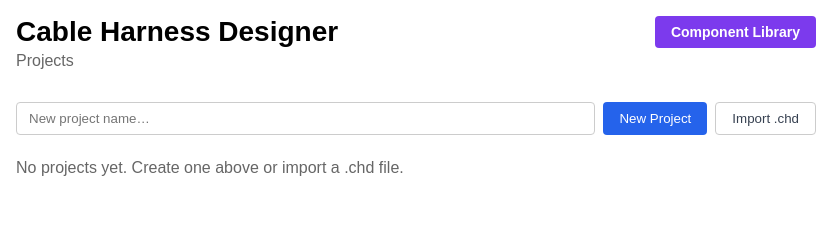
ProjectListScreen › rename flow updates the project name
expect the text "No projects yet. Create one above or import a .chd file." is shown: met, box top-left (16, 159), bottom-right (404, 176)
Type "Old Name" into the field with placeholder "New project name…" at (306,118), box top-left (16, 102), bottom-right (596, 135)
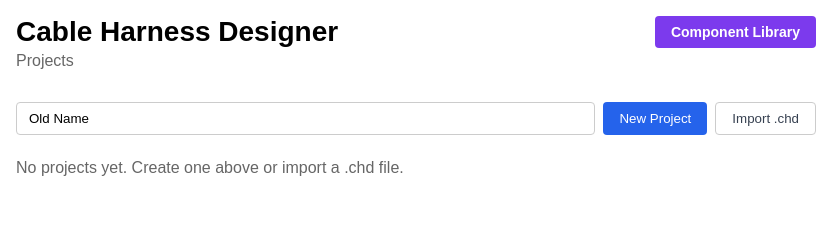
Click the button "New Project" at (655,118), box top-left (604, 102), bottom-right (707, 135)
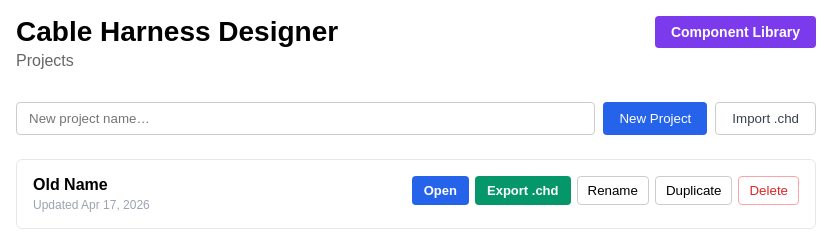
expect the text "Old Name" is shown: met, box top-left (33, 176), bottom-right (108, 193)
Click the button "Rename" at (613,190), box top-left (576, 176), bottom-right (649, 205)
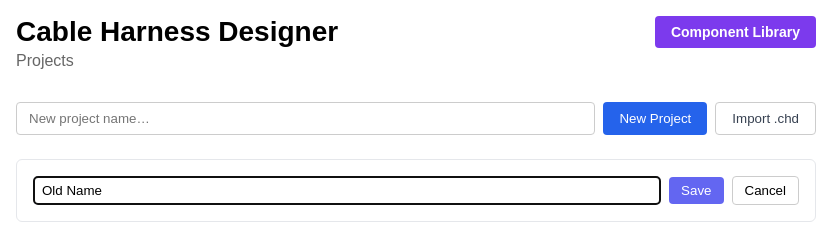
Replace the text in the field showing "Old Name" with "New Name" at (347,190), box top-left (33, 176), bottom-right (661, 205)
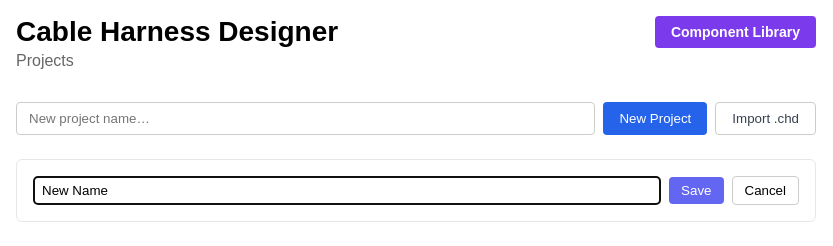
Click the button "Save" at (696,190), box top-left (669, 177), bottom-right (724, 204)
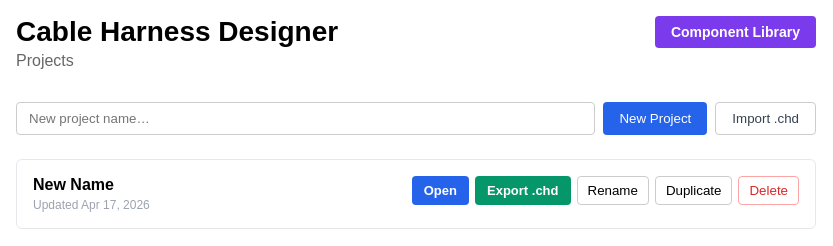
expect the text "Old Name" is not shown: met
expect the text "New Name" is shown: met, box top-left (33, 176), bottom-right (114, 193)
